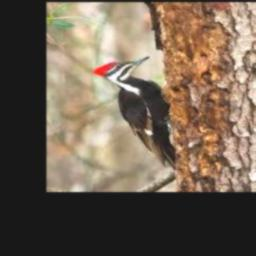Woodpecker: (94, 56, 177, 169)
